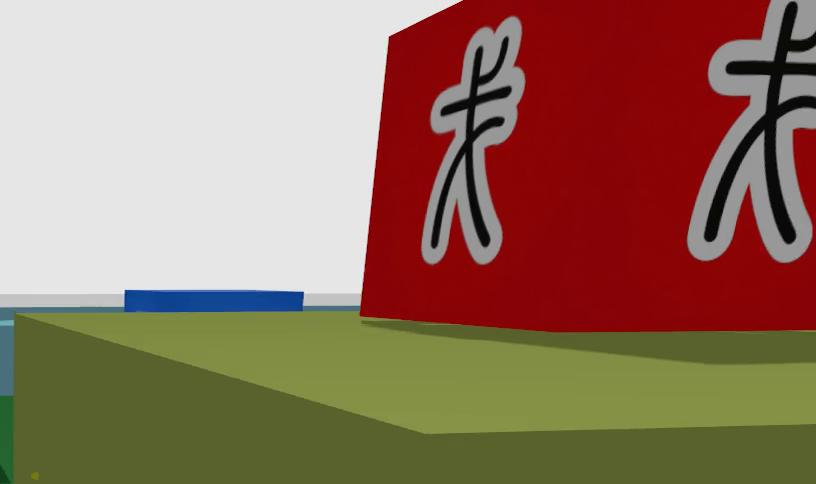KFS_FAKE: (360, 0, 815, 331), (688, 0, 815, 262), (420, 17, 524, 264)
